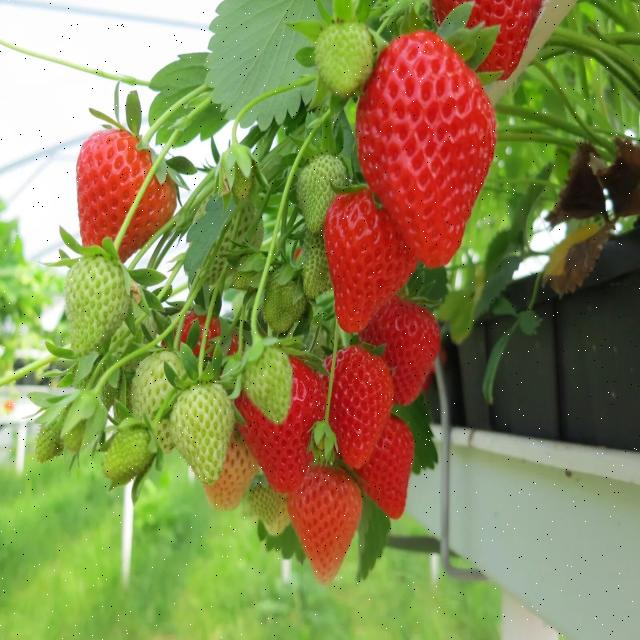Ripe Strawberry: (354, 32, 496, 267), (76, 128, 176, 263), (325, 192, 416, 334), (236, 356, 324, 495), (431, 0, 543, 79), (362, 301, 440, 403), (330, 348, 392, 467), (359, 419, 413, 518), (180, 310, 240, 360)
